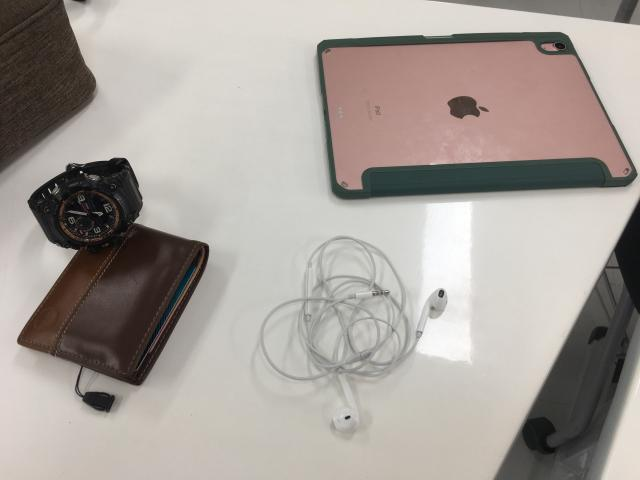Wallet: (17, 225, 211, 388)
Watch: (28, 158, 144, 253)
wire: (253, 237, 447, 440)
